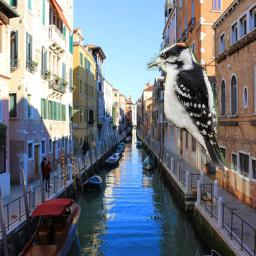Woodpecker: (142, 41, 230, 171)
